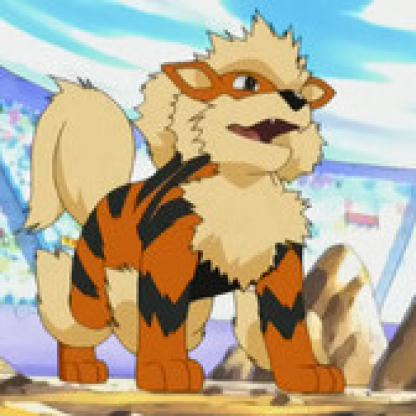Arcanine: (30, 3, 335, 406)
